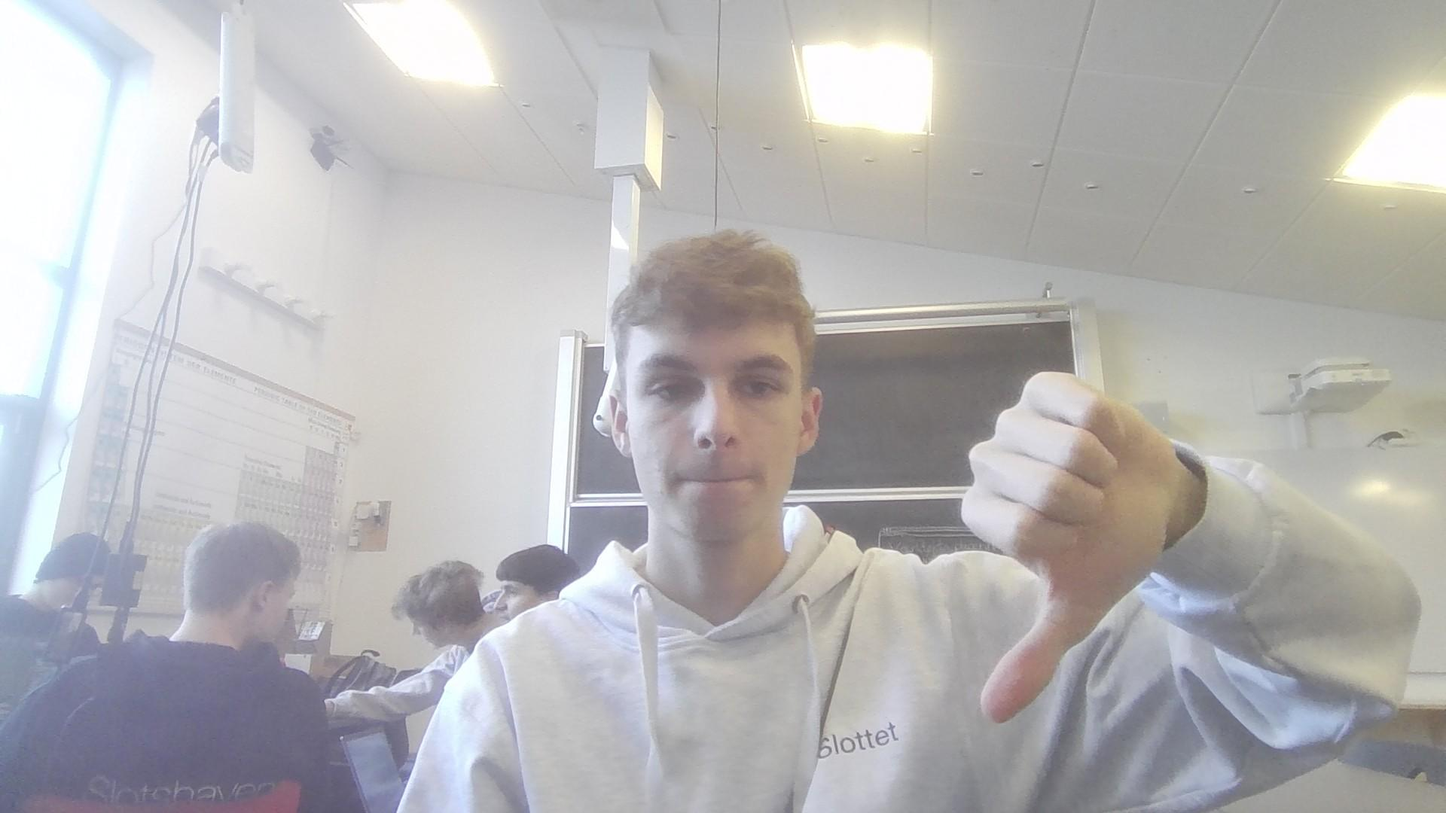thumbs down: (953, 369, 1186, 734)
